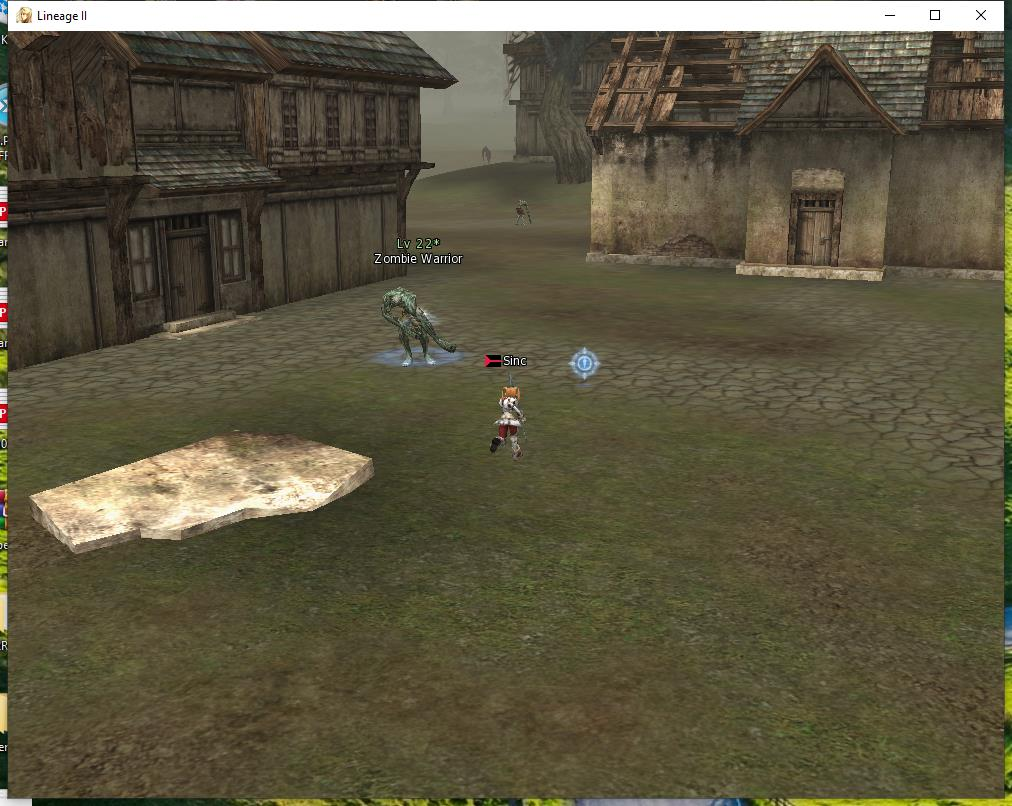monster: (383, 231, 459, 371), (512, 197, 530, 232)
